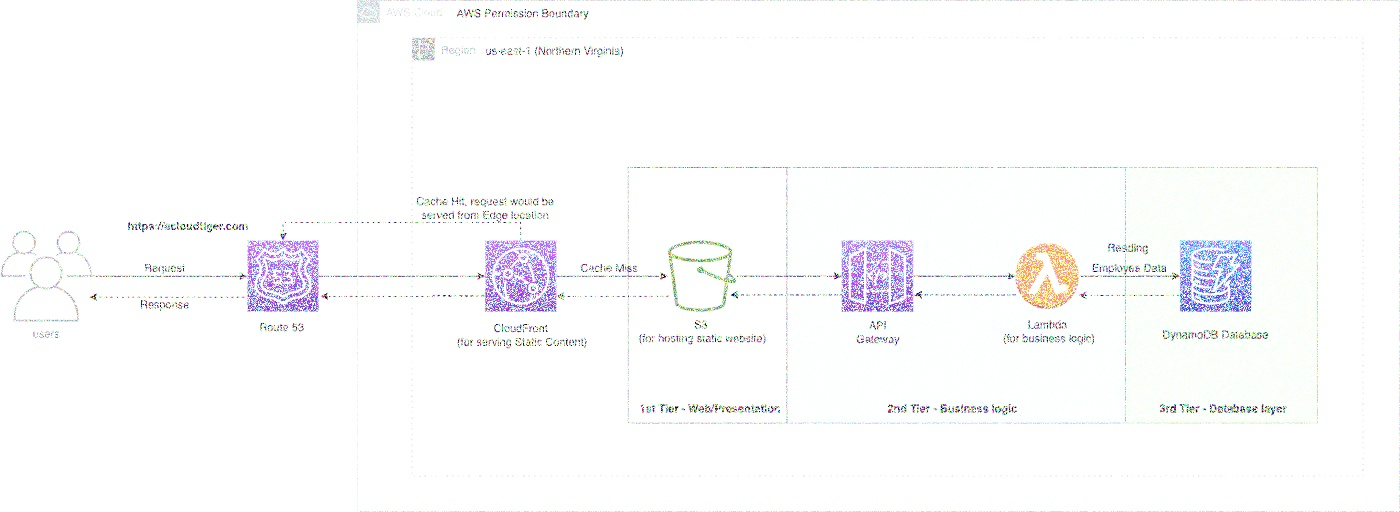API-Gateway: (836, 231, 919, 316)
Cloudfront: (482, 238, 561, 313)
Dynamo DB: (1177, 234, 1254, 316)
Lambda: (1011, 236, 1084, 313)
Route53: (241, 233, 323, 316)
S3: (662, 233, 738, 314)
Users: (1, 218, 90, 327)
